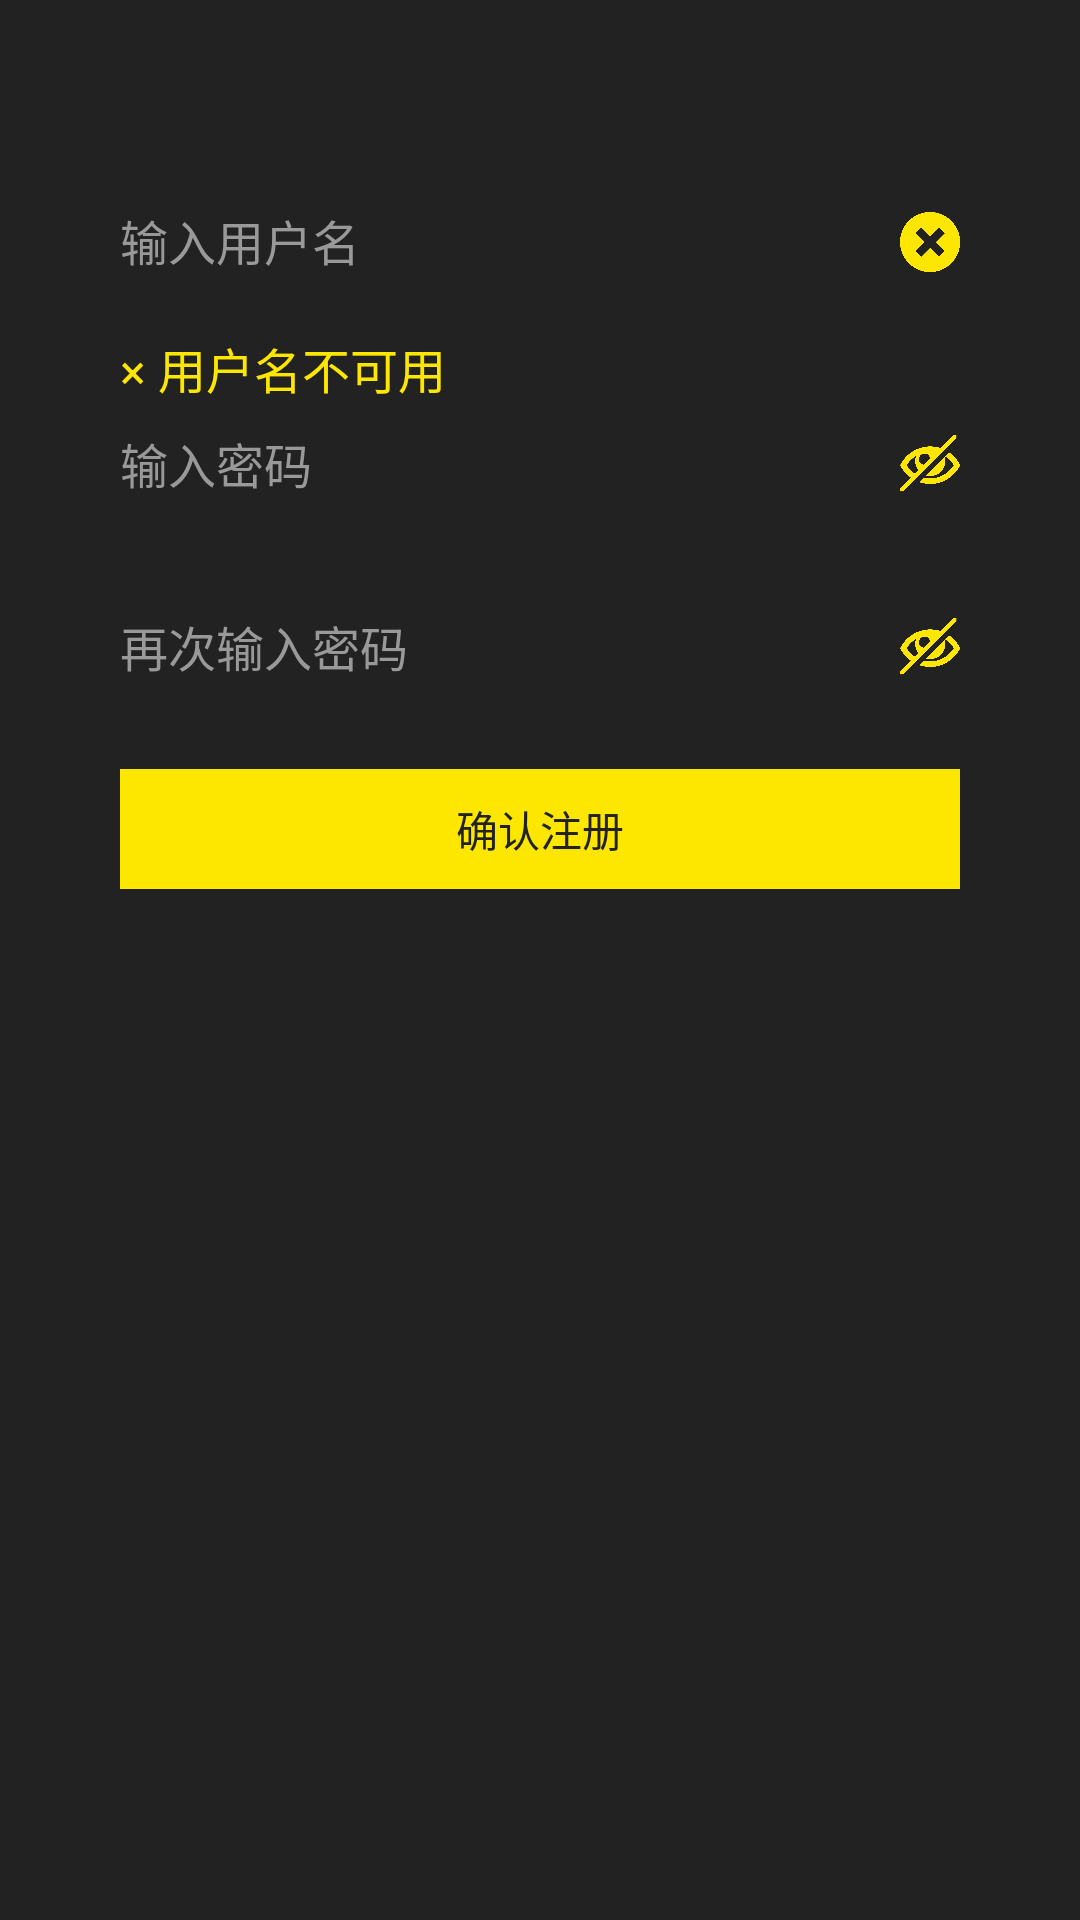

Screen size 1080 x 1920. Icon name, then its center in pixels as (x=x, y=y):
eye close: (x=930, y=463), (x=930, y=646)
